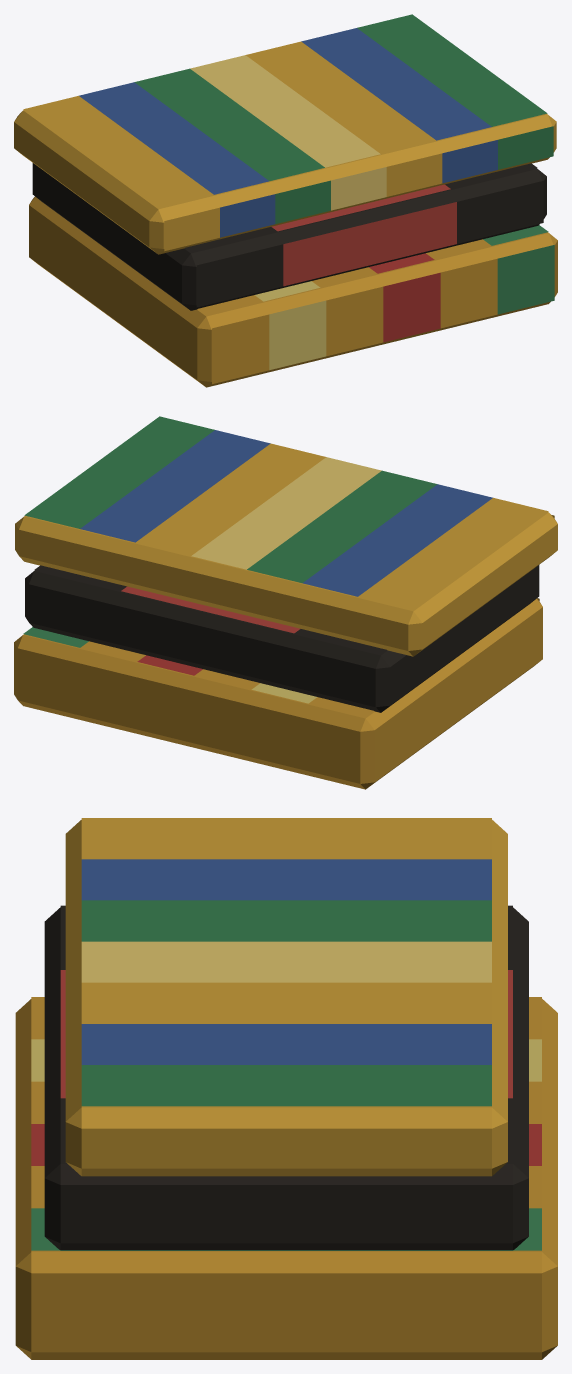
Rendered from kente-throw-roll-11.glb.
3 views of the same model, one above another, from view 1: azimuth 30°, elevation 25°; view 2: azimuth 150°, elevation 25°; view 3: azimuth 270°, elevation 25° (orthographic). The views are drawn at different scales.
Parts seen in each view (by area): view 1: kente_throw_roll_11; view 2: kente_throw_roll_11; view 3: kente_throw_roll_11.
Boxes of the visible parts, x1,y1,x2,y2 form: kente_throw_roll_11: (14,14,557,387); kente_throw_roll_11: (14,416,557,789); kente_throw_roll_11: (15,818,557,1359).
Size of the model in its own units: 0.4491 by 0.1841 by 0.3425.
